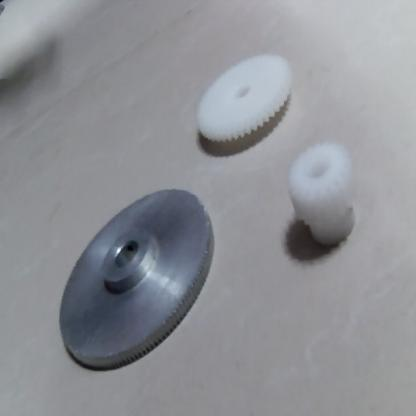FOD: (54, 184, 219, 378), (192, 46, 300, 162), (288, 142, 362, 263)
